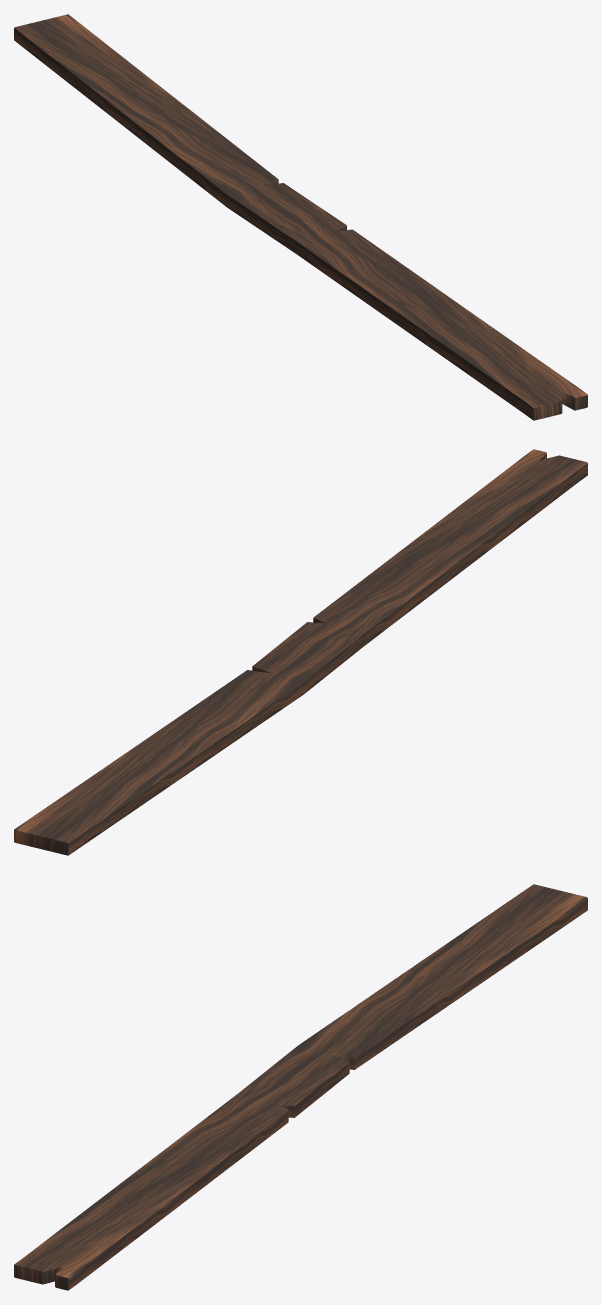
File: Holzbalken_02.fbx
3 views of the same model, one above another, from view 1: azimuth 30°, elevation 25°; view 2: azimuth 150°, elevation 25°; view 3: azimuth 330°, elevation 25° (orthographic).
Visible parts, largest first — view 1: Holzbalken_02; view 2: Holzbalken_02; view 3: Holzbalken_02.
Part boxes in pixels (x1,y1,x2,y2): Holzbalken_02: (14,14,587,420); Holzbalken_02: (14,449,587,855); Holzbalken_02: (14,884,587,1290).
Size of the model in its own units: 0.7581 by 0.15 by 10.25.
